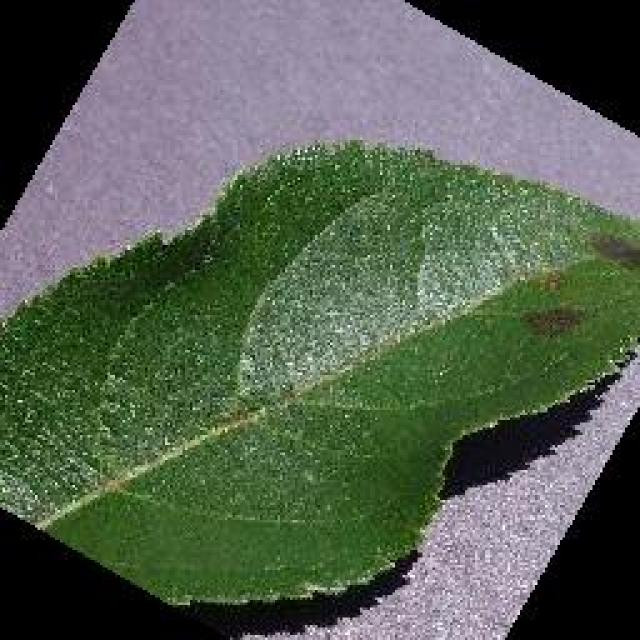apple scab disease: (0, 133, 638, 615)
